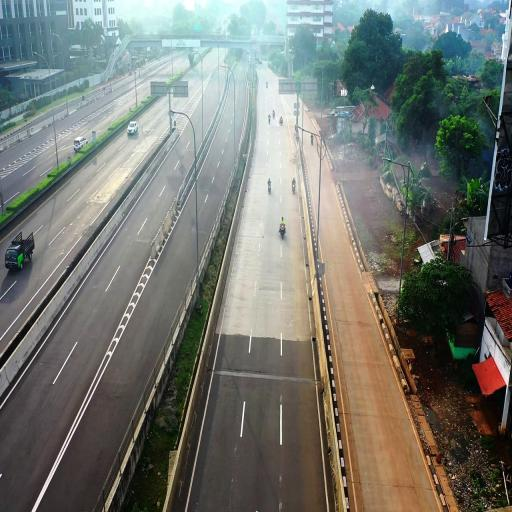vehicle: (128, 121, 140, 139)
